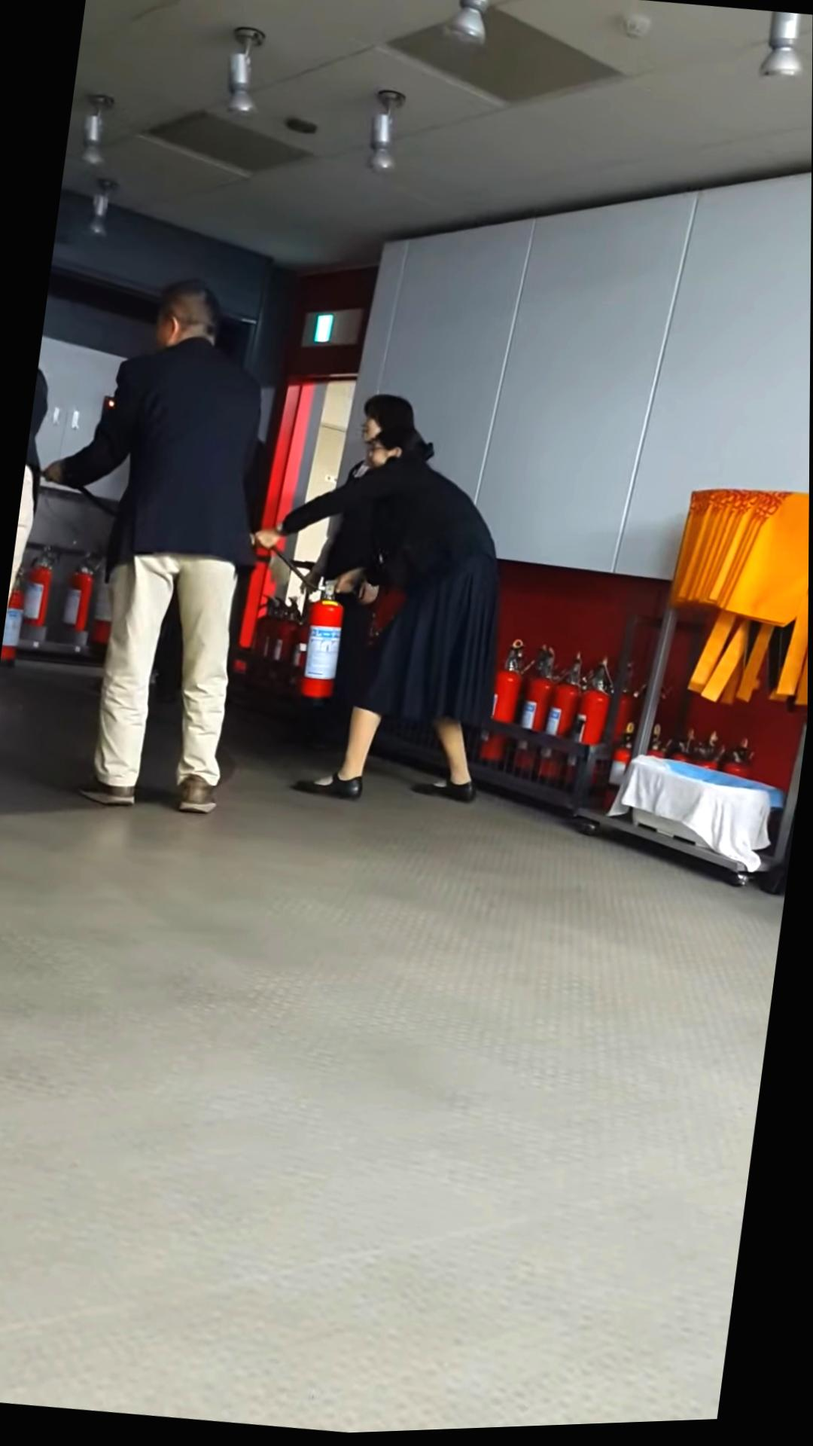FireExtinguisher: (277, 564, 364, 718), (467, 638, 540, 778), (573, 663, 657, 781), (538, 657, 591, 802), (52, 539, 111, 659), (517, 647, 577, 756), (17, 540, 62, 672), (0, 564, 48, 682)
not: (656, 467, 810, 802), (225, 363, 329, 663), (494, 554, 648, 643)
